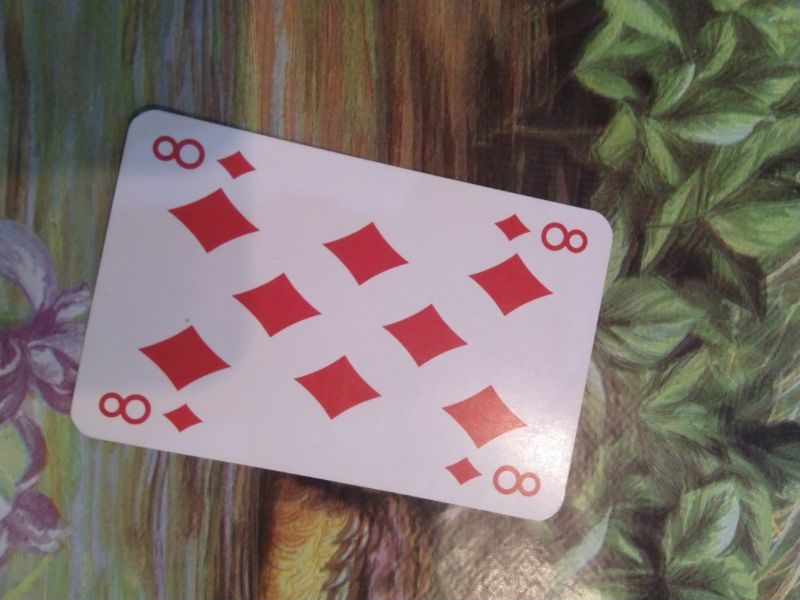8d: (149, 132, 261, 180), (93, 389, 206, 435), (490, 209, 593, 257), (442, 453, 543, 501)
